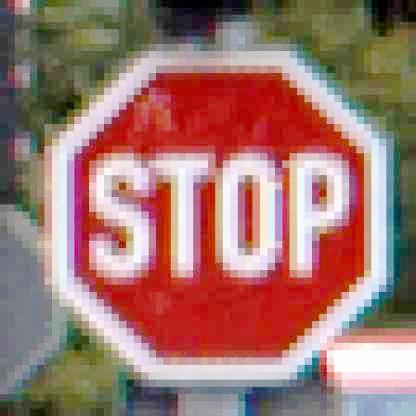Stop Sign: (51, 41, 398, 382)
